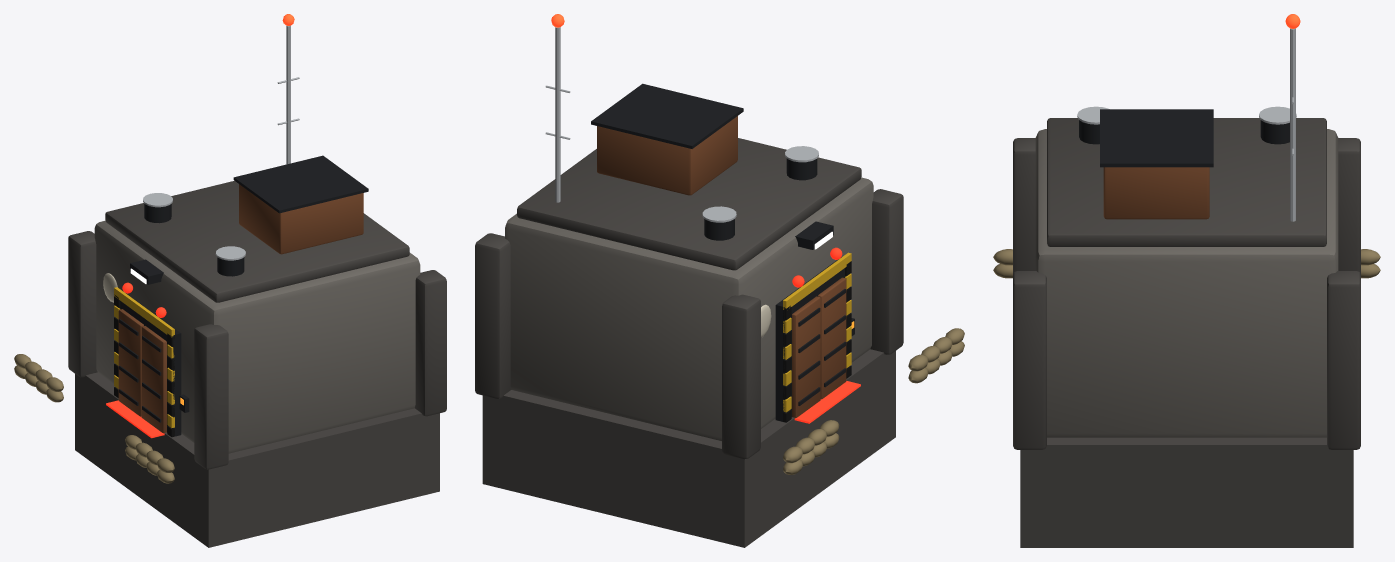
File: bunker-gate.glb
3 views of the same model, side by side, from view 1: azimuth 30°, elevation 25°; view 2: azimuth 150°, elevation 25°; view 3: azimuth 270°, elevation 25° (orthographic). The views are drawn at different scales.
Visible parts, largest first — view 1: Blockhouse; view 2: Blockhouse; view 3: Blockhouse.
Boxes of the visible parts, left/top/right/bottom form: Blockhouse: left=14, top=14, right=446, bottom=547; Blockhouse: left=475, top=14, right=964, bottom=547; Blockhouse: left=993, top=14, right=1380, bottom=547.
Bounding box in the file's own units: 11.04 × 14.8 × 10.24.
